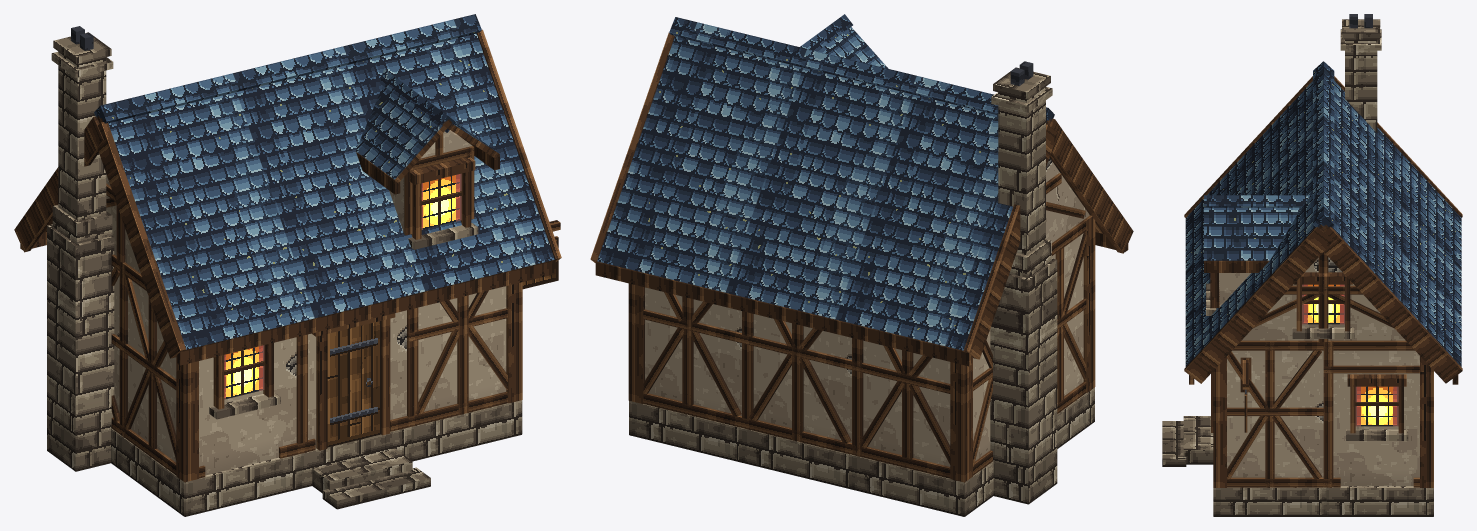
File: MV_House_A.glb
3 views of the same model, side by side, from view 1: azimuth 30°, elevation 25°; view 2: azimuth 150°, elevation 25°; view 3: azimuth 270°, elevation 25° (orthographic). The views are drawn at different scales.
Visible parts, largest first — view 1: MV_Roof_Gable_2m_A.MV_House_A, MV_Roof_Gable_2m_A.MV_House_A.001, MV_Chimney_Stone_A.MV_House_A, MV_Roof_Gable_2m_A.MV_House_A.002, MV_Roof_GableEnd_A.MV_House_A, MV_Wall_Timber_2m_A.MV_House_A, MV_Dormer_Slate_A.MV_House_A, MV_Wall_Timber_2m_A.MV_House_A.006, MV_Door_Wood_A.MV_House_A, MV_Wall_Timber_2m_B.MV_House_A, MV_Roof_GableEnd_A.MV_House_A.001, MV_Window_Small_A.MV_House_A (+11 smaller); view 2: MV_Roof_Gable_2m_A.MV_House_A.001, MV_Roof_Gable_2m_A.MV_House_A.002, MV_Roof_Gable_2m_A.MV_House_A, MV_Chimney_Stone_A.MV_House_A, MV_Wall_Timber_2m_A.MV_House_A.003, MV_Wall_Timber_2m_A.MV_House_A.004, MV_Wall_Timber_2m_A.MV_House_A.002, MV_Roof_GableEnd_A.MV_House_A, MV_Roof_GableEnd_A.MV_House_A.001, MV_Wall_Timber_2m_A.MV_House_A.006, MV_Foundation_Stone_2m_A.MV_House_A.005, MV_Foundation_Stone_2m_A.MV_House_A.003 (+9 smaller); view 3: MV_Wall_Timber_2m_A.MV_House_A.001, MV_Roof_Gable_2m_A.MV_House_A, MV_Roof_GableEnd_A.MV_House_A.001, MV_Wall_Timber_2m_B.MV_House_A.002, MV_Roof_Gable_2m_A.MV_House_A.002, MV_Roof_Gable_2m_A.MV_House_A.001, MV_Dormer_Slate_A.MV_House_A, MV_Wall_Gable_4m_A.MV_House_A.001, MV_Window_Small_A.MV_House_A.002, MV_Chimney_Stone_A.MV_House_A, MV_Foundation_Stone_2m_A.MV_House_A.007, MV_Foundation_Stone_2m_A.MV_House_A.009 (+8 smaller).
Boxes of the visible parts, x1,y1,x2,y2 form: MV_Roof_Gable_2m_A.MV_House_A: [45, 73, 314, 359]; MV_Roof_Gable_2m_A.MV_House_A.001: [233, 46, 424, 332]; MV_Chimney_Stone_A.MV_House_A: [47, 26, 114, 471]; MV_Roof_Gable_2m_A.MV_House_A.002: [343, 19, 535, 306]; MV_Roof_GableEnd_A.MV_House_A: [14, 100, 204, 365]; MV_Wall_Timber_2m_A.MV_House_A: [407, 286, 507, 427]; MV_Dormer_Slate_A.MV_House_A: [355, 69, 499, 235]; MV_Wall_Timber_2m_A.MV_House_A.006: [119, 261, 199, 475]; MV_Door_Wood_A.MV_House_A: [312, 313, 395, 450]; MV_Wall_Timber_2m_B.MV_House_A: [199, 337, 297, 478]; MV_Roof_GableEnd_A.MV_House_A.001: [453, 14, 561, 279]; MV_Window_Small_A.MV_House_A: [408, 157, 478, 249]; MV_Roof_Gable_2m_A.MV_House_A.001: [725, 49, 916, 333]; MV_Roof_Gable_2m_A.MV_House_A.002: [616, 22, 806, 307]; MV_Roof_Gable_2m_A.MV_House_A: [835, 76, 1102, 360]; MV_Chimney_Stone_A.MV_House_A: [990, 61, 1057, 504]; MV_Wall_Timber_2m_A.MV_House_A.003: [742, 311, 851, 454]; MV_Wall_Timber_2m_A.MV_House_A.004: [852, 338, 950, 478]; MV_Wall_Timber_2m_A.MV_House_A.002: [643, 287, 741, 427]; MV_Roof_GableEnd_A.MV_House_A: [945, 107, 1133, 366]; MV_Roof_GableEnd_A.MV_House_A.001: [590, 17, 696, 280]; MV_Wall_Timber_2m_A.MV_House_A.006: [1051, 215, 1091, 413]; MV_Foundation_Stone_2m_A.MV_House_A.005: [849, 454, 964, 516]; MV_Foundation_Stone_2m_A.MV_House_A.003: [739, 427, 854, 489]; MV_Wall_Timber_2m_A.MV_House_A.001: [1227, 340, 1323, 487]; MV_Roof_Gable_2m_A.MV_House_A: [1185, 70, 1461, 270]; MV_Roof_GableEnd_A.MV_House_A.001: [1184, 206, 1462, 384]; MV_Wall_Timber_2m_B.MV_House_A.002: [1323, 340, 1419, 487]; MV_Roof_Gable_2m_A.MV_House_A.002: [1185, 161, 1461, 361]; MV_Roof_Gable_2m_A.MV_House_A.001: [1185, 115, 1461, 315]; MV_Dormer_Slate_A.MV_House_A: [1204, 195, 1309, 307]; MV_Wall_Gable_4m_A.MV_House_A.001: [1242, 252, 1405, 341]; MV_Window_Small_A.MV_House_A.002: [1346, 374, 1408, 440]; MV_Chimney_Stone_A.MV_House_A: [1340, 14, 1381, 132]; MV_Foundation_Stone_2m_A.MV_House_A.007: [1213, 487, 1326, 516]; MV_Foundation_Stone_2m_A.MV_House_A.009: [1321, 486, 1433, 516].
Size of the model in its own units: 7.77 by 7.34 by 5.61.
Materials: 8 (8 with a texture image).
